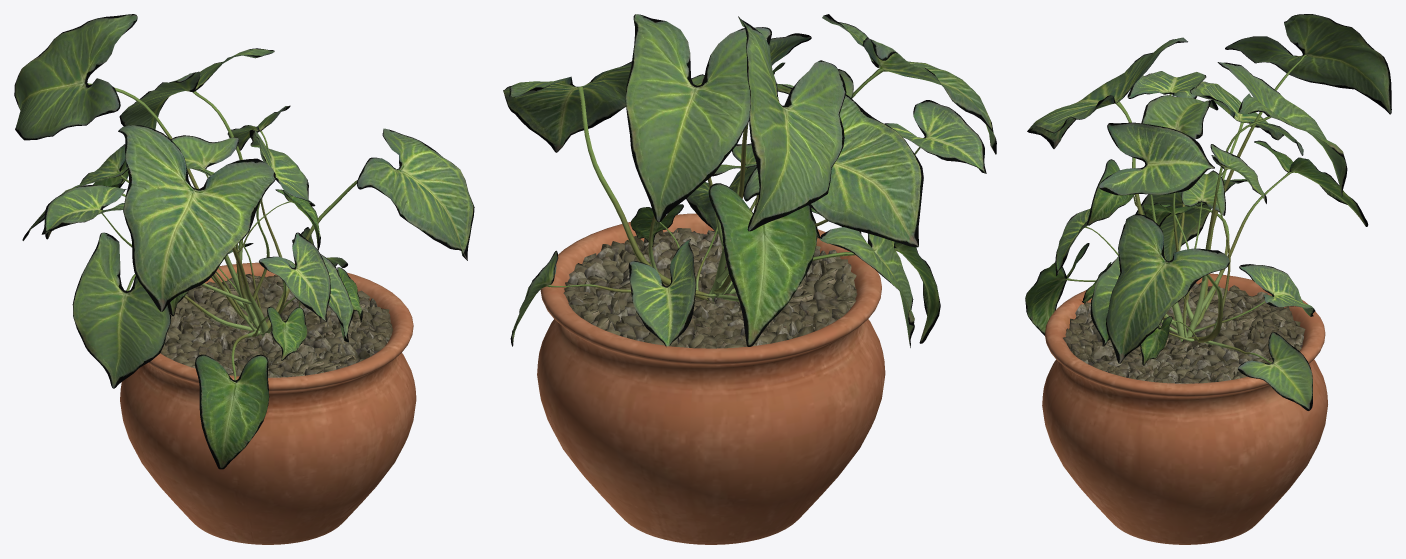
File: room_planet_props_m.glb
3 views of the same model, side by side, from view 1: azimuth 30°, elevation 25°; view 2: azimuth 150°, elevation 25°; view 3: azimuth 270°, elevation 25° (orthographic). The views are drawn at different scales.
Parts seen in each view (by area): view 1: prop_potted_plant_02_1_potted_plant_02_leaves, prop_potted_plant_02_1_potted_plant_02_pot, prop_potted_plant_02_1_potted_plant_02_dirt; view 2: prop_potted_plant_02_1_potted_plant_02_leaves, prop_potted_plant_02_1_potted_plant_02_pot, prop_potted_plant_02_1_potted_plant_02_dirt; view 3: prop_potted_plant_02_1_potted_plant_02_leaves, prop_potted_plant_02_1_potted_plant_02_pot, prop_potted_plant_02_1_potted_plant_02_dirt.
Part boxes in pixels (left/top/right/bottom): prop_potted_plant_02_1_potted_plant_02_leaves: left=14, top=14, right=474, bottom=469; prop_potted_plant_02_1_potted_plant_02_pot: left=120, top=262, right=416, bottom=544; prop_potted_plant_02_1_potted_plant_02_dirt: left=160, top=274, right=392, bottom=377; prop_potted_plant_02_1_potted_plant_02_leaves: left=503, top=14, right=996, bottom=347; prop_potted_plant_02_1_potted_plant_02_pot: left=537, top=213, right=885, bottom=544; prop_potted_plant_02_1_potted_plant_02_dirt: left=563, top=228, right=857, bottom=348; prop_potted_plant_02_1_potted_plant_02_leaves: left=1025, top=14, right=1391, bottom=410; prop_potted_plant_02_1_potted_plant_02_pot: left=1042, top=273, right=1327, bottom=544; prop_potted_plant_02_1_potted_plant_02_dirt: left=1063, top=282, right=1305, bottom=383.
Bounding box in the file's own units: 0.7703 × 0.8412 × 0.6077.
Materials: 2 (2 with a texture image).
